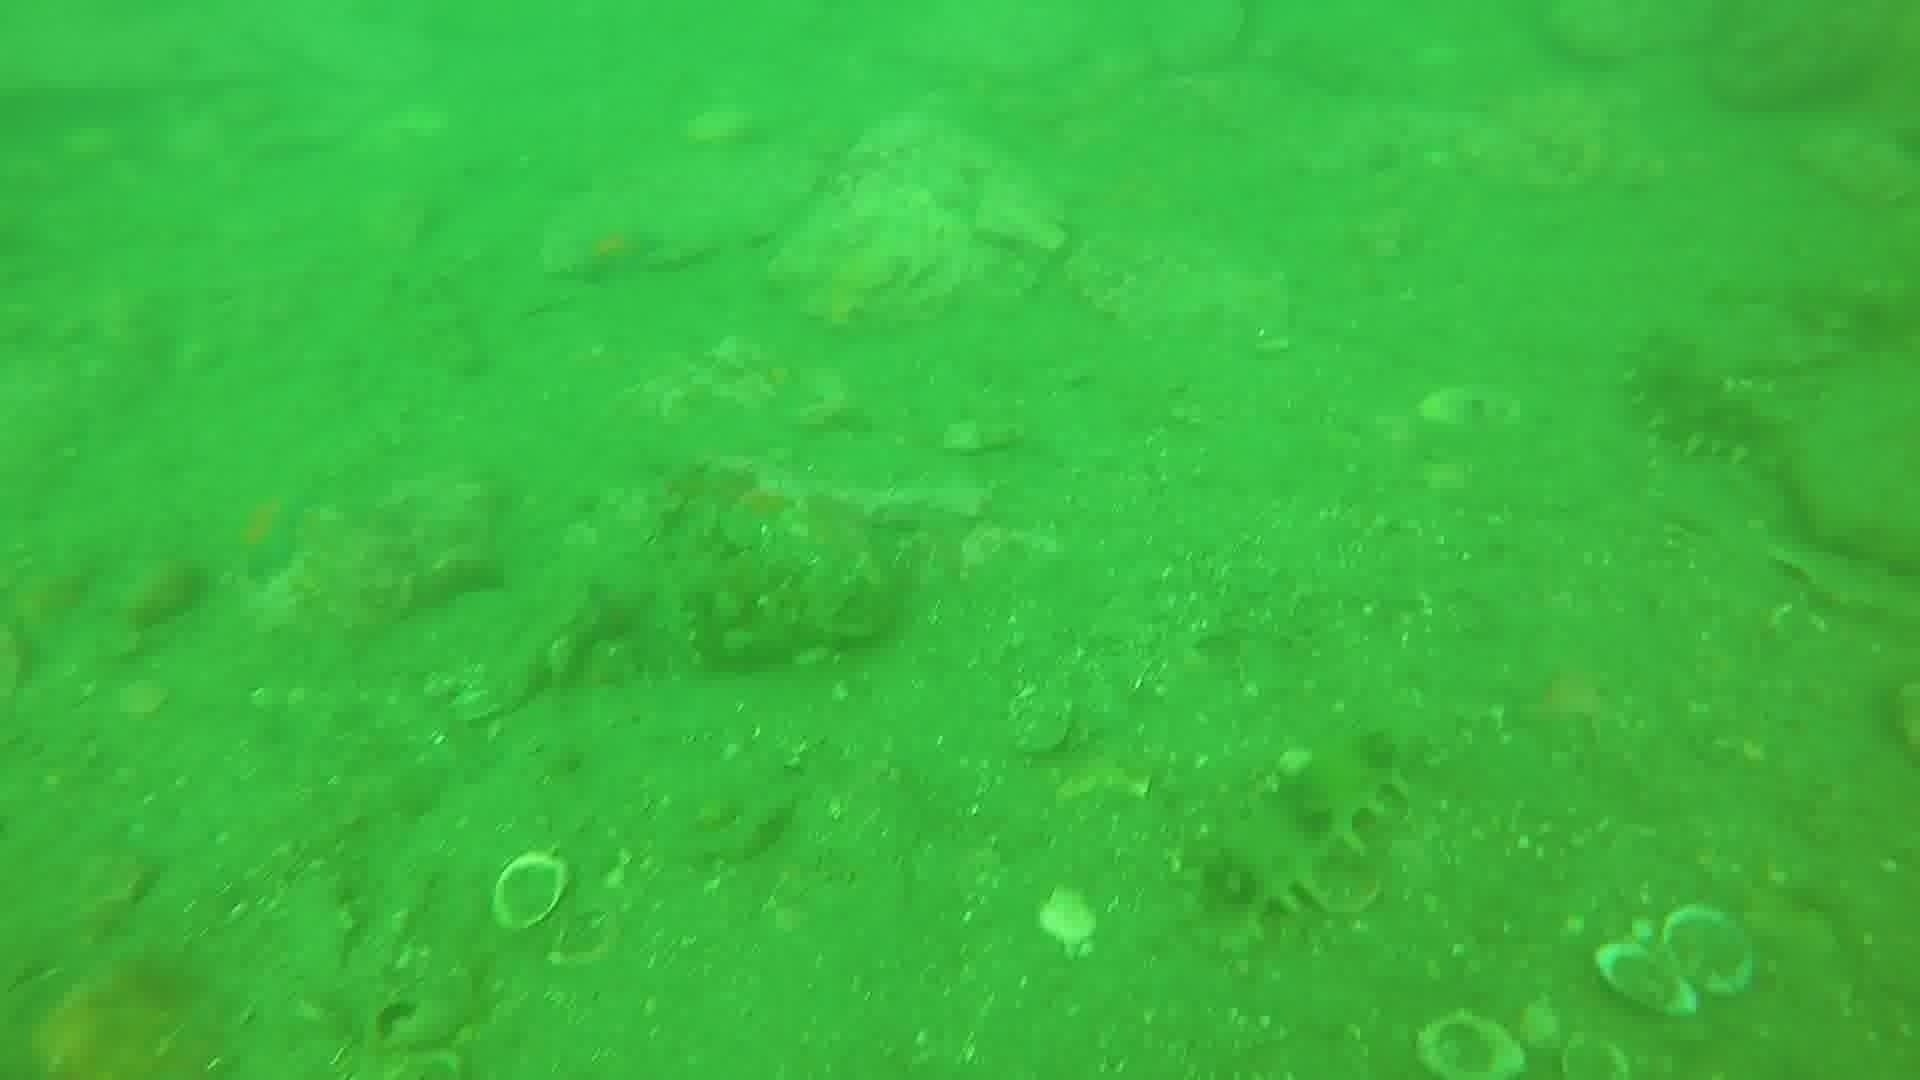holothurian: (1180, 715, 1424, 956), (1617, 324, 1795, 477)
starfish: (206, 473, 319, 587), (541, 203, 669, 291)
